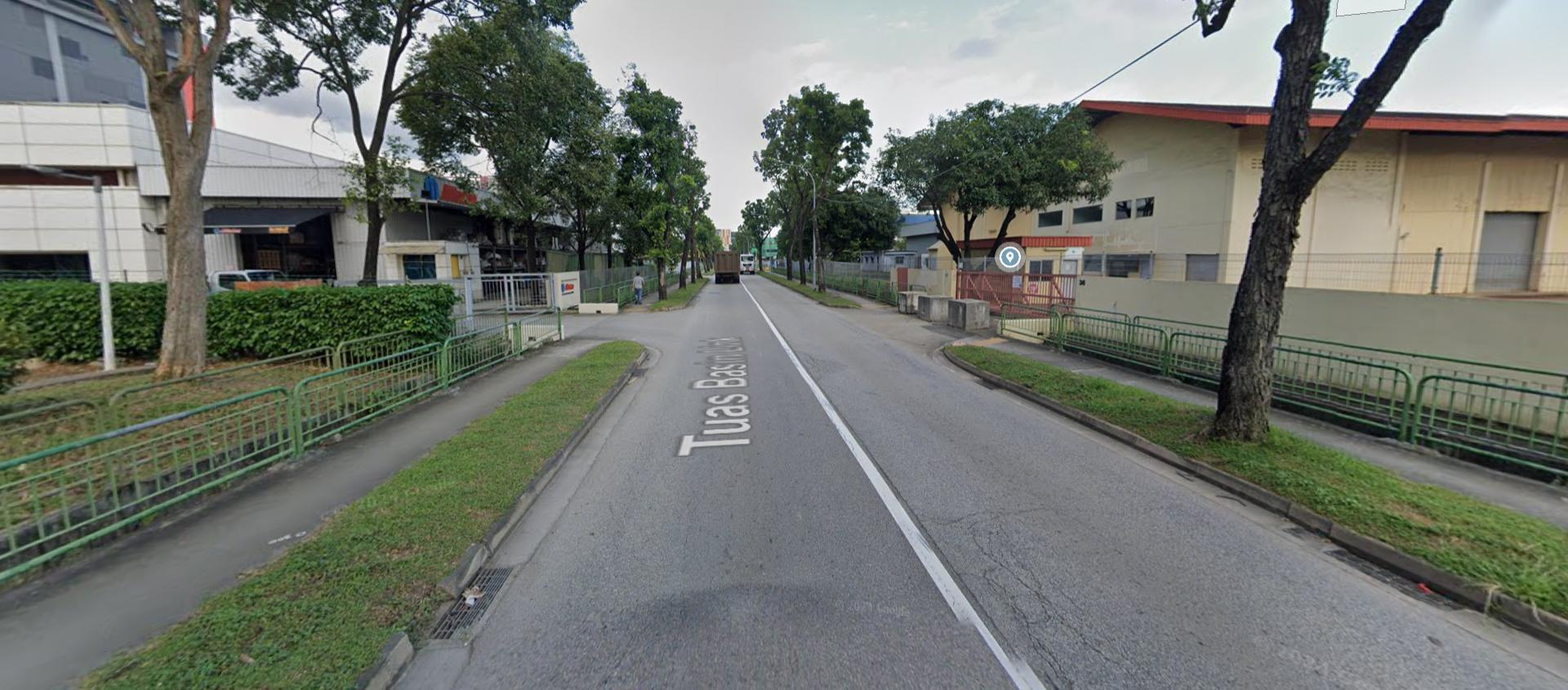normal: (432, 567, 515, 639)
